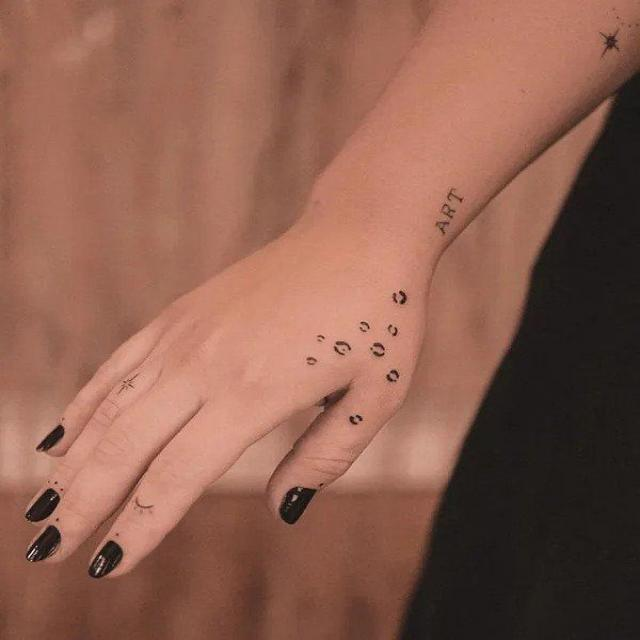hand: (23, 203, 464, 579)
